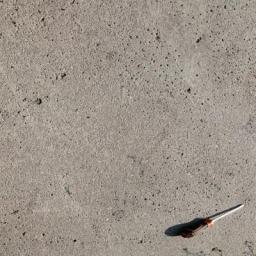FOD: (165, 202, 246, 242)
